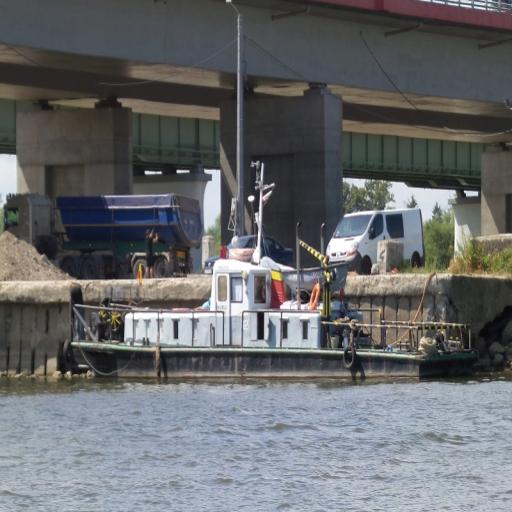tugboat: (59, 233, 479, 398)
